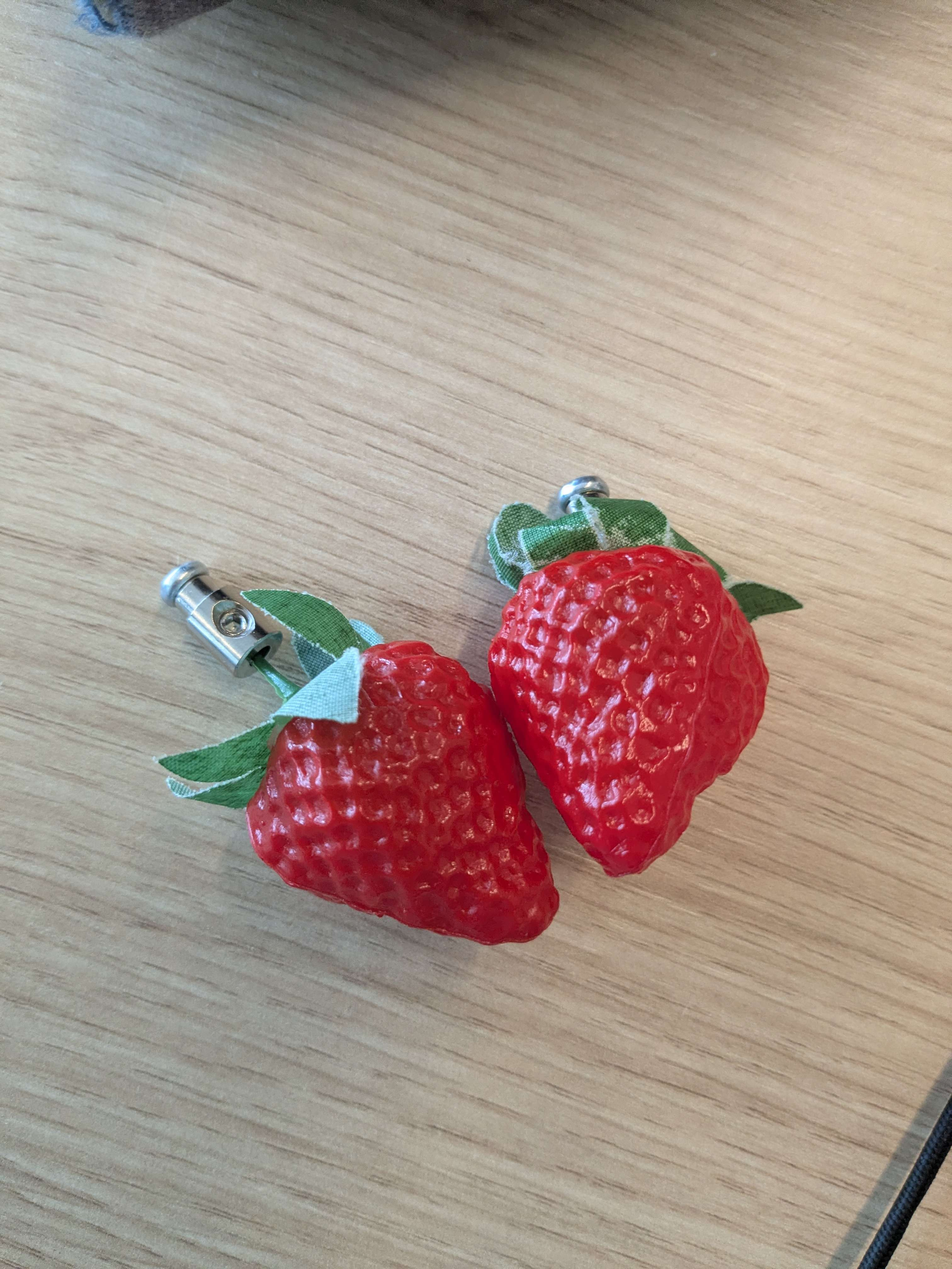Strawberry: (243, 634, 569, 950), (480, 543, 780, 886)
